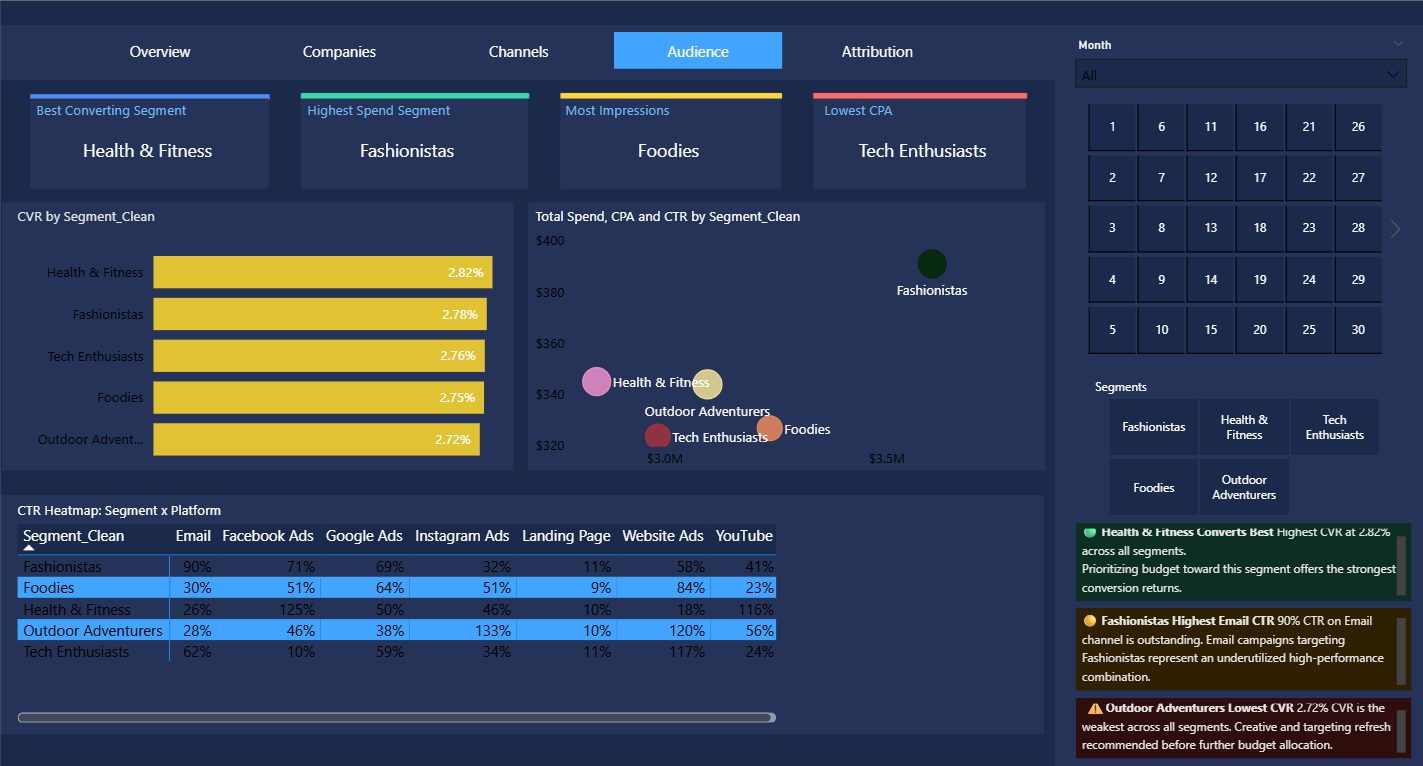

This screenshot's page, from the dashboard's own definition file:
{"tool":"powerbi","page":{"name":"Audience","canvas":[1280,720],"ordinal":3},"visuals":[{"type":"slicer","fields":{"Values":["Date_Dim.Day"]},"box":[955.2,119.4,317.8,248.7],"z":0},{"type":"slicer","fields":{"Values":["Date_Dim.Month Name"]},"box":[955.2,57.5,317.8,56.6],"z":1000},{"type":"card","title":"Most Impressions","fields":{"Values":["CalcMeasures.Best Company CPA"]},"box":[502.7,119.4,194.8,76.3],"z":2000},{"type":"card","title":"Best Converting Segment","fields":{"Values":["CalcMeasures.Best Segment CVR"]},"box":[27.8,119.4,209.2,76.3],"z":3000},{"type":"card","title":"Highest Spend Segment","fields":{"Values":["CalcMeasures.Highest Spend Segment"]},"box":[271.1,119.4,188.5,76.3],"z":4000},{"type":"card","title":"Lowest CPA","fields":{"Values":["CalcMeasures.Lowest CPA Segment"]},"box":[735.3,119.4,185.8,76.3],"z":5000},{"type":"clusteredBarChart","fields":{"Y":["CalcMeasures.CVR"],"Category":["Dim_Segment.Segment_Clean"]},"box":[10.8,214.6,474,244.2],"z":6000},{"type":"pivotTable","title":"CTR Heatmap: Segment x Platform","fields":{"Rows":["Dim_Segment.Segment_Clean"],"Columns":["Dim_Platform.Platfrom"],"Values":["CalcMeasures.CTR"]},"box":[10.8,478.5,691.3,203.8],"z":7000},{"type":"scatterChart","fields":{"Size":["CalcMeasures.CTR"],"X":["CalcMeasures.Total Spend"],"Y":["CalcMeasures.CPA"],"Category":["Dim_Segment.Segment_Clean"]},"box":[475.8,214.6,461.4,244.2],"z":8000},{"type":"pageNavigator","box":[68.2,57.5,795.4,33.2],"z":9000},{"type":"slicer","fields":{"Values":["Dim_Segment.Segment_Clean"]},"box":[955.2,360,317.8,136.5],"z":10000},{"type":"textbox","box":[966,498.3,300.7,70],"z":11000},{"type":"textbox","box":[966,574.6,300.7,73.6],"z":12000},{"type":"textbox","box":[966,655.4,300.7,53.9],"z":13000}]}

Visuals, with their boxes on the page's 1280x720 design canvas (x1, y1, x2, y2). These are canvas units, not pixel positions in the 1423x766 screenshot, which may show the page scaled, cropped or inside an application window:
slicer - Date_Dim.Day: Rect(955, 119, 1273, 368)
slicer - Date_Dim.Month Name: Rect(955, 58, 1273, 114)
"Most Impressions" card: Rect(503, 119, 698, 196)
"Best Converting Segment" card: Rect(28, 119, 237, 196)
"Highest Spend Segment" card: Rect(271, 119, 460, 196)
"Lowest CPA" card: Rect(735, 119, 921, 196)
clusteredBarChart - CalcMeasures.CVR x Dim_Segment.Segment_Clean: Rect(11, 215, 485, 459)
"CTR Heatmap: Segment x Platform" pivotTable: Rect(11, 478, 702, 682)
scatterChart - CalcMeasures.CTR x CalcMeasures.Total Spend: Rect(476, 215, 937, 459)
pageNavigator: Rect(68, 58, 864, 91)
slicer - Dim_Segment.Segment_Clean: Rect(955, 360, 1273, 496)
textbox: Rect(966, 498, 1267, 568)
textbox: Rect(966, 575, 1267, 648)
textbox: Rect(966, 655, 1267, 709)
